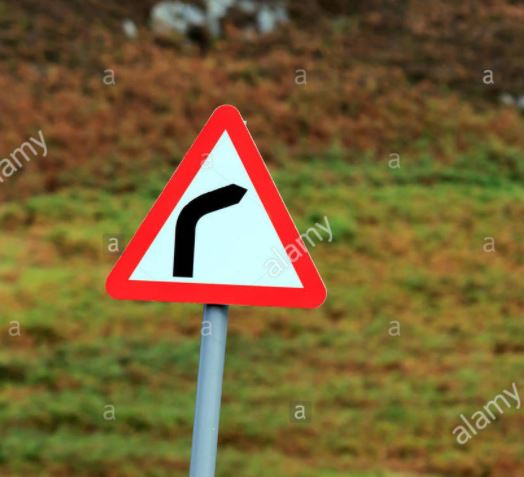Bend_to_right: (102, 103, 336, 313)
